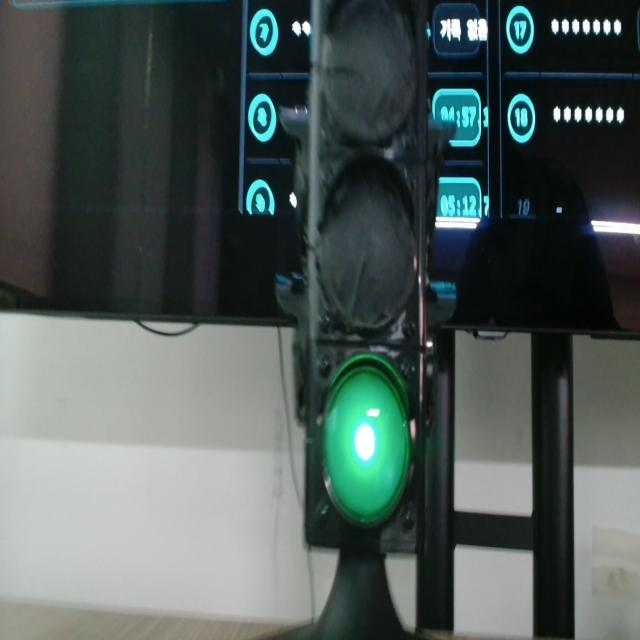green_light: (324, 357, 410, 524)
